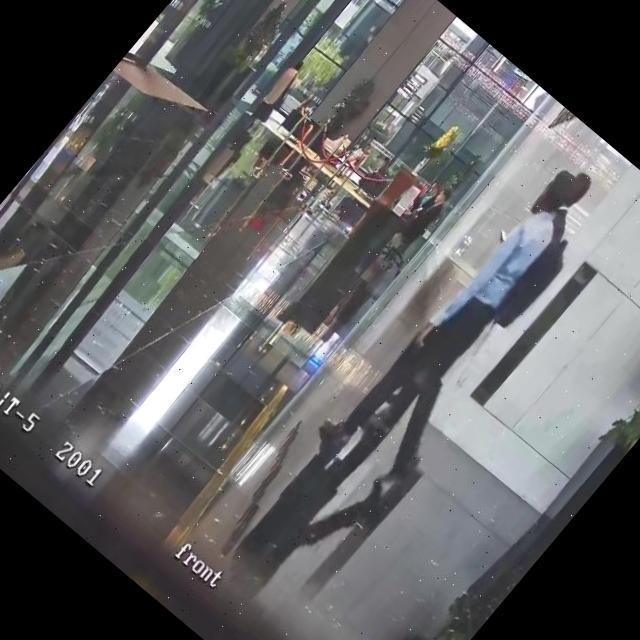person: (308, 153, 626, 504), (359, 166, 602, 446), (238, 56, 311, 138), (278, 95, 329, 148), (404, 184, 453, 238), (351, 151, 396, 200), (334, 140, 373, 182), (412, 178, 445, 216)
